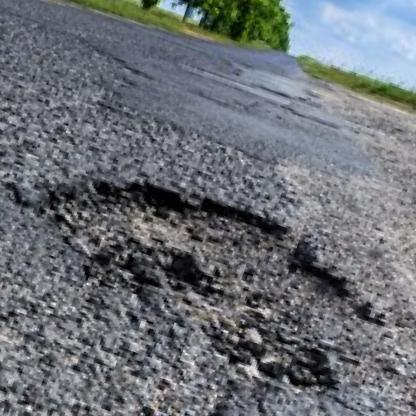pothole: (0, 141, 394, 416)
